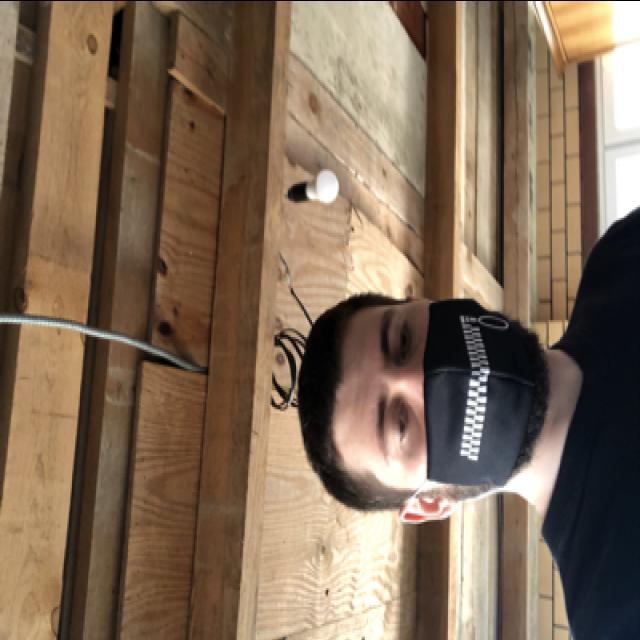mask: (362, 300, 534, 487)
